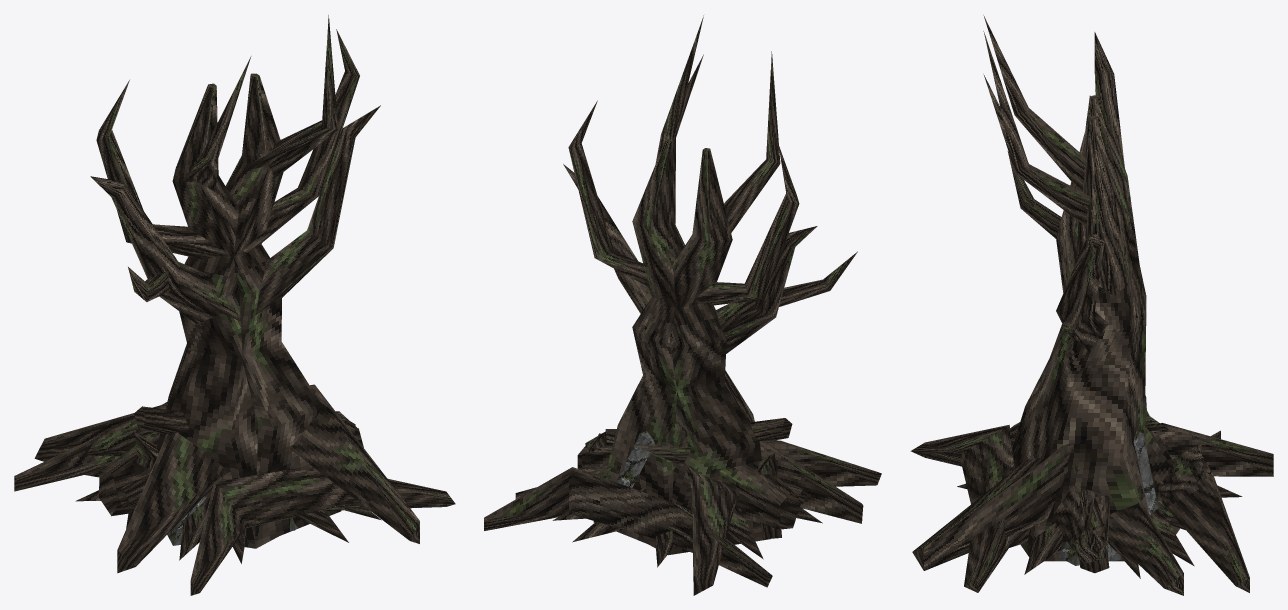
File: forest_v7_kit.glb
3 views of the same model, side by side, from view 1: azimuth 30°, elevation 25°; view 2: azimuth 150°, elevation 25°; view 3: azimuth 270°, elevation 25° (orthographic). The views are drawn at different scales.
Parts seen in each view (by area): view 1: forest_tree_b, forest_root_mat, forest_tree_a, forest_tree_c, forest_broken_fence, forest_log; view 2: forest_tree_b, forest_tree_a, forest_root_mat, forest_log, forest_tree_c, forest_broken_fence, forest_stone; view 3: forest_root_mat, forest_tree_a, forest_tree_b, forest_tree_c, forest_log, forest_stone, forest_broken_fence.
Part boxes in pixels (<box>): forest_tree_b: <box>85,56,381,560</box>; forest_root_mat: <box>14,384,455,595</box>; forest_tree_a: <box>90,29,359,545</box>; forest_tree_c: <box>75,15,338,563</box>; forest_broken_fence: <box>116,406,355,528</box>; forest_log: <box>99,427,363,516</box>; forest_tree_b: <box>552,51,799,555</box>; forest_tree_a: <box>568,54,822,567</box>; forest_root_mat: <box>484,429,881,595</box>; forest_log: <box>577,442,800,529</box>; forest_tree_c: <box>572,15,857,559</box>; forest_broken_fence: <box>585,418,806,539</box>; forest_stone: <box>616,431,654,487</box>; forest_root_mat: <box>910,422,1273,595</box>; forest_tree_a: <box>983,74,1242,578</box>; forest_tree_b: <box>983,15,1194,566</box>; forest_tree_c: <box>957,31,1185,574</box>; forest_log: <box>1052,414,1171,563</box>; forest_stone: <box>1059,431,1158,565</box>; forest_broken_fence: <box>1070,465,1109,573</box>.
Size of the model in its own units: 73.97 by 117 by 74.78.
2 materials, 2 textured.
